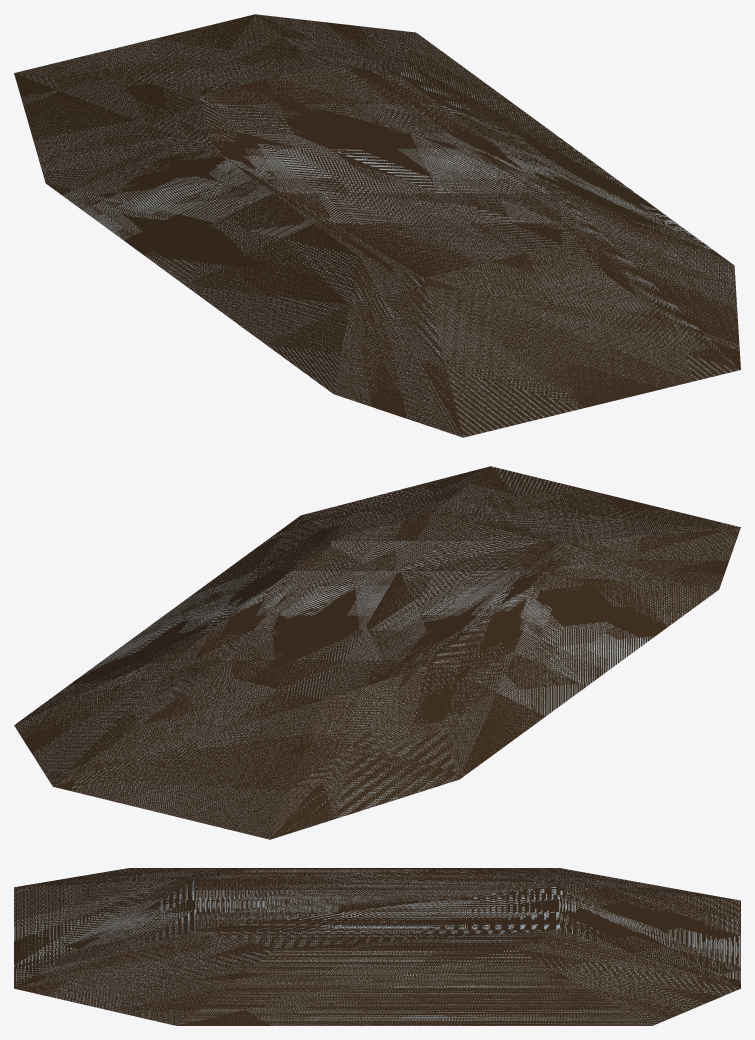
Rendered from Graveyard_Dirt_Mound_01.fbx.
3 views of the same model, one above another, from view 1: azimuth 30°, elevation 25°; view 2: azimuth 150°, elevation 25°; view 3: azimuth 270°, elevation 25° (orthographic). The views are drawn at different scales.
Parts seen in each view (by area): view 1: Model; view 2: Model; view 3: Model.
Boxes of the visible parts, x1,y1,x2,y2 form: Model: (14,14,740,437); Model: (14,466,740,839); Model: (14,868,740,1025).
Size of the model in its own units: 570 by 64 by 1109.
